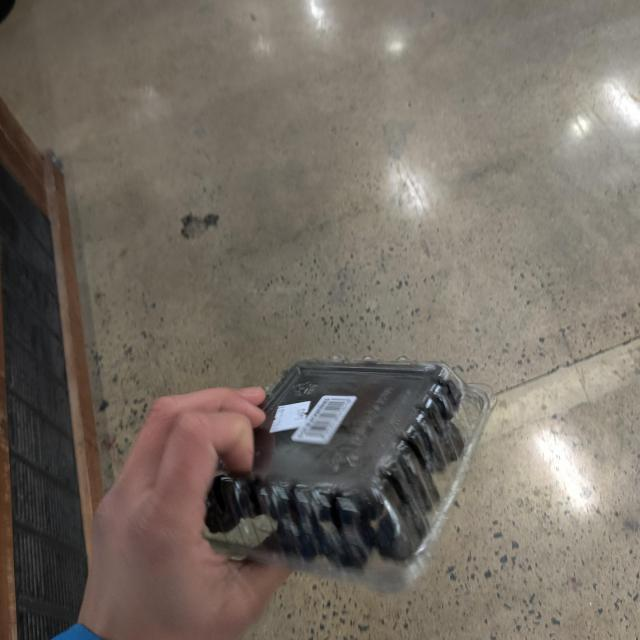Blackberries: (195, 357, 501, 598)
